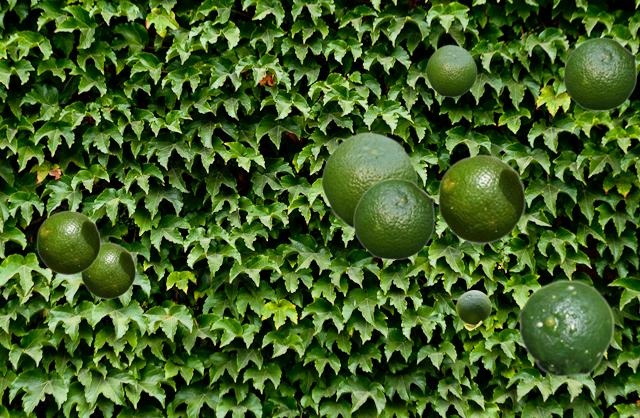calamansi: (320, 131, 417, 229), (518, 279, 614, 377), (437, 154, 525, 243), (353, 178, 434, 259), (563, 37, 636, 110), (36, 210, 100, 274), (80, 242, 135, 298), (425, 44, 476, 96), (456, 290, 490, 329)
